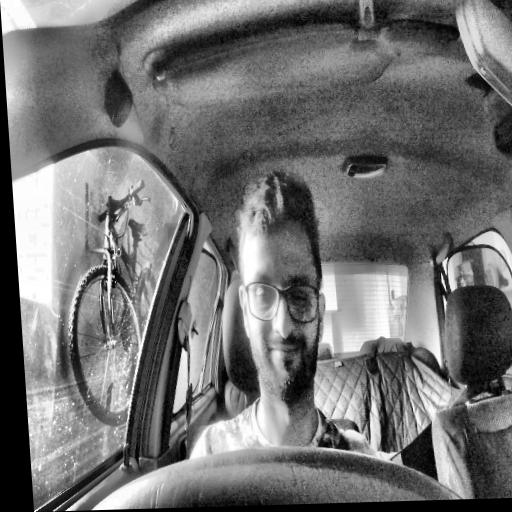drowsy: (230, 170, 335, 411)
